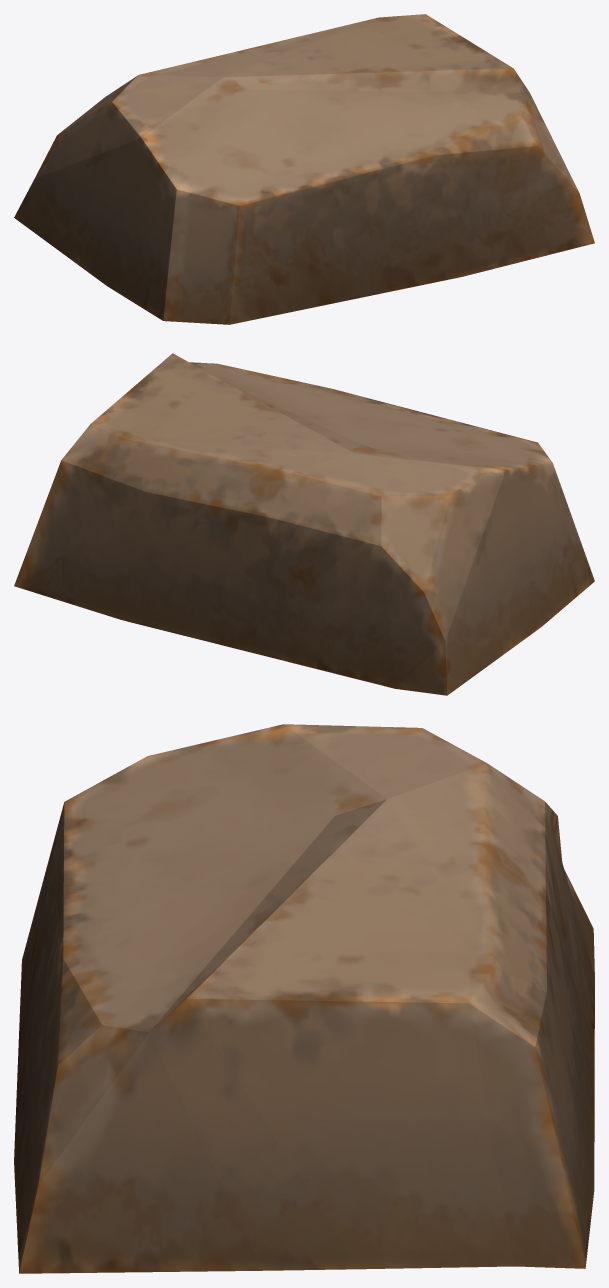
File: DesertPebble_Square_2.obj
3 renders of one model, top to bottom at view 1: azimuth 30°, elevation 25°; view 2: azimuth 150°, elevation 25°; view 3: azimuth 270°, elevation 25°, orthographic. The views are drawn at different scales.
Parts seen in each view (by area): view 1: DesertPebble_Square_2; view 2: DesertPebble_Square_2; view 3: DesertPebble_Square_2.
Part boxes in pixels (x1=…): DesertPebble_Square_2: x1=14, y1=14, x2=594, y2=324; DesertPebble_Square_2: x1=14, y1=353, x2=594, y2=695; DesertPebble_Square_2: x1=14, y1=724, x2=594, y2=1273.
Bounding box in the file's own units: 0.3911 × 0.1404 × 0.2803.
1 material, 1 textured.
